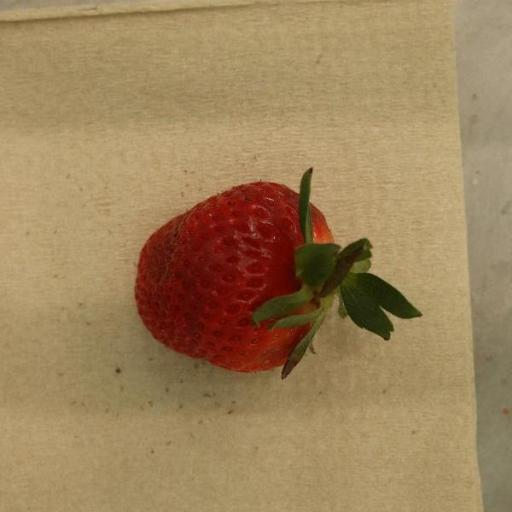Strawberry: (134, 168, 423, 380)
